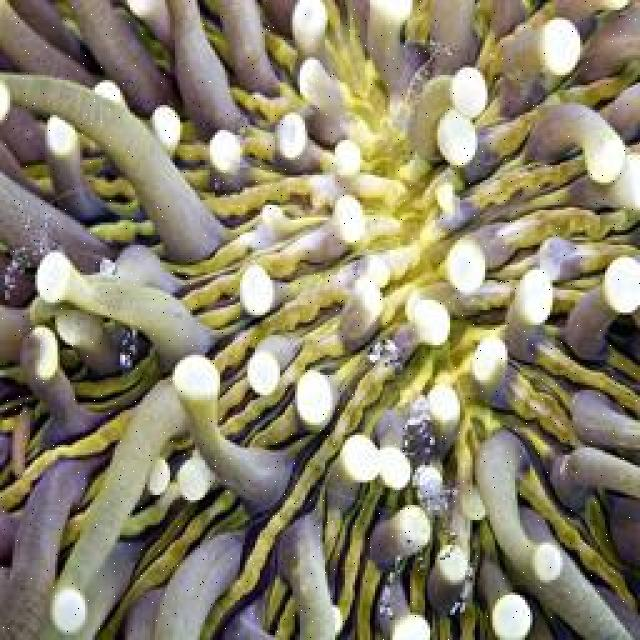reefs: (0, 0, 638, 638)
